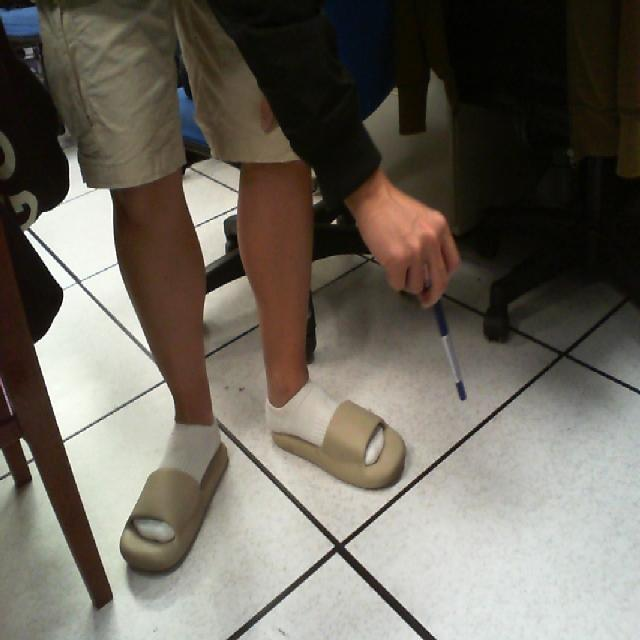Pen: (419, 261, 480, 441)
